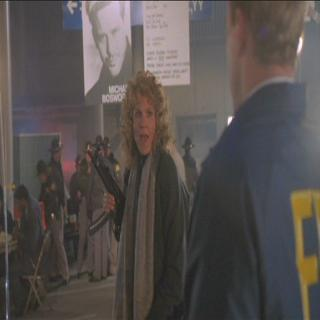gun: (90, 138, 129, 232)
